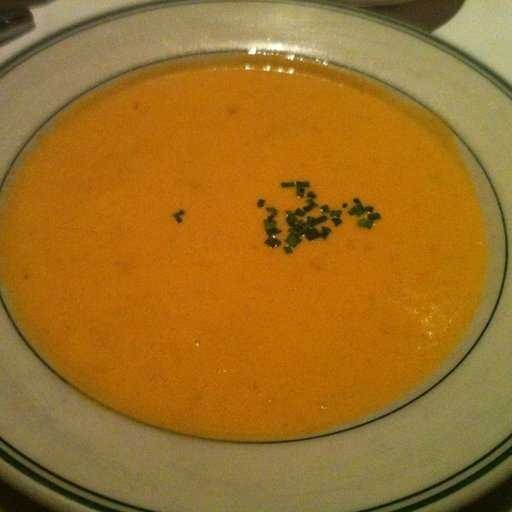soup: (1, 14, 509, 471)
